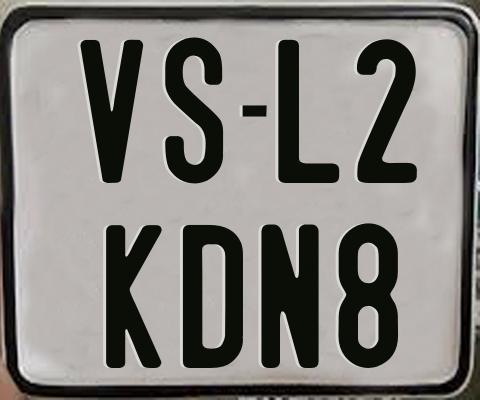2: (357, 39, 417, 188)
8: (337, 223, 402, 369)
D: (183, 225, 249, 371)
K: (105, 222, 167, 368)
L: (275, 40, 341, 184)
N: (261, 221, 325, 371)
S: (164, 34, 223, 187)
V: (80, 37, 144, 184)
